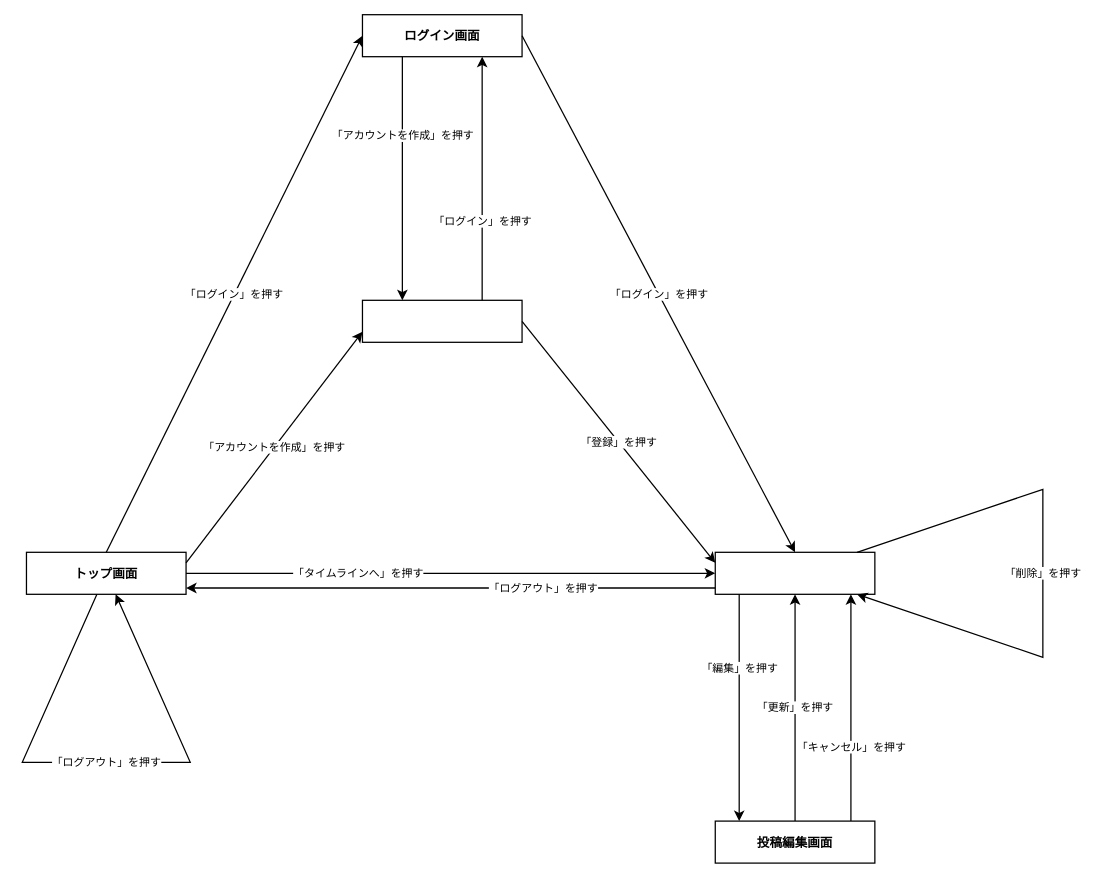
The diagram is 1096 pixels wide and 879 high, and some of its shapes have lost their labels. The shapes that lost their labels are listed below. From the top down, each one's centre as x and y in pixels, then its label:
(441,321): ユーザー登録画面
(794,573): 投稿一覧画面
